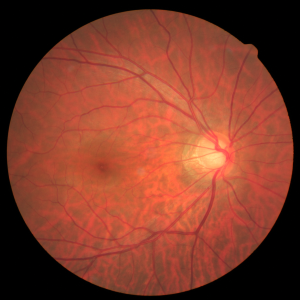glaucoma: (66, 103, 256, 219)
